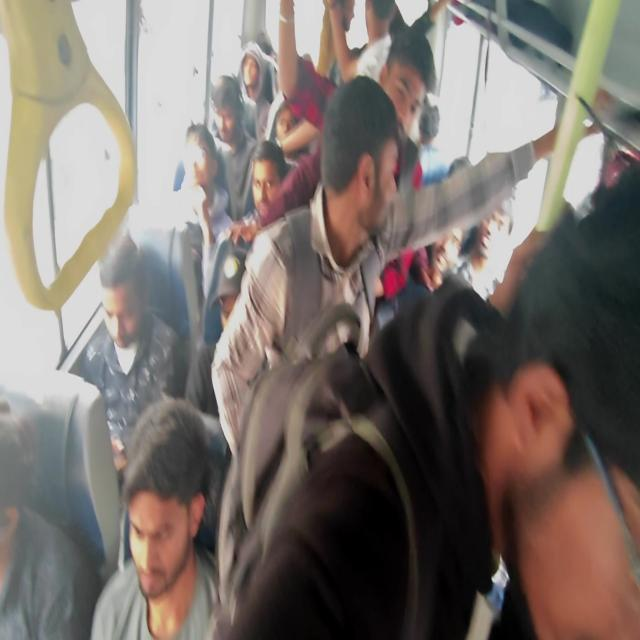person: (213, 161, 639, 638), (210, 70, 600, 458), (462, 163, 639, 638), (210, 73, 403, 458), (247, 21, 437, 230), (90, 395, 221, 638), (75, 234, 185, 477), (0, 405, 94, 638), (179, 122, 235, 300), (210, 74, 258, 222), (322, 0, 397, 85), (237, 40, 277, 142)
